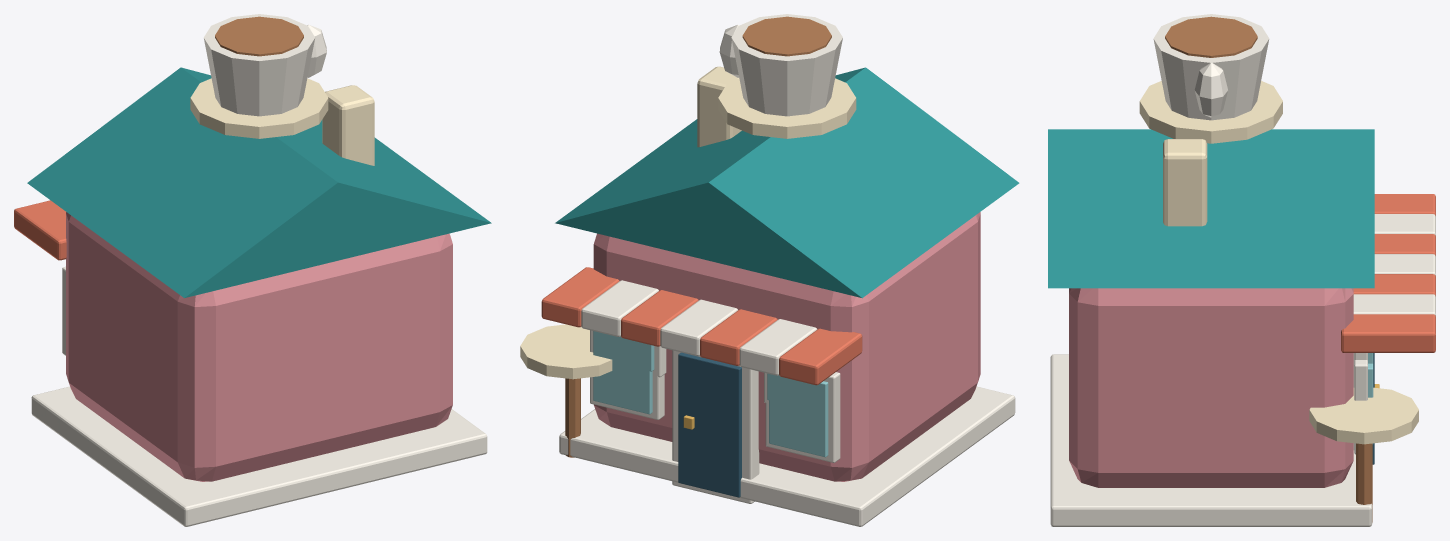
Rendered from cafe.glb.
3 renders of one model, left to right at view 1: azimuth 30°, elevation 25°; view 2: azimuth 150°, elevation 25°; view 3: azimuth 270°, elevation 25°, orthographic. The views are drawn at different scales.
Parts seen in each view (by area): view 1: cafe; view 2: cafe; view 3: cafe.
Boxes of the visible parts, left/top/right/bottom form: cafe: left=14, top=14, right=491, bottom=526; cafe: left=520, top=14, right=1019, bottom=526; cafe: left=1048, top=14, right=1435, bottom=526.
Size of the model in its own units: 3.87 by 4.4 by 3.68.
